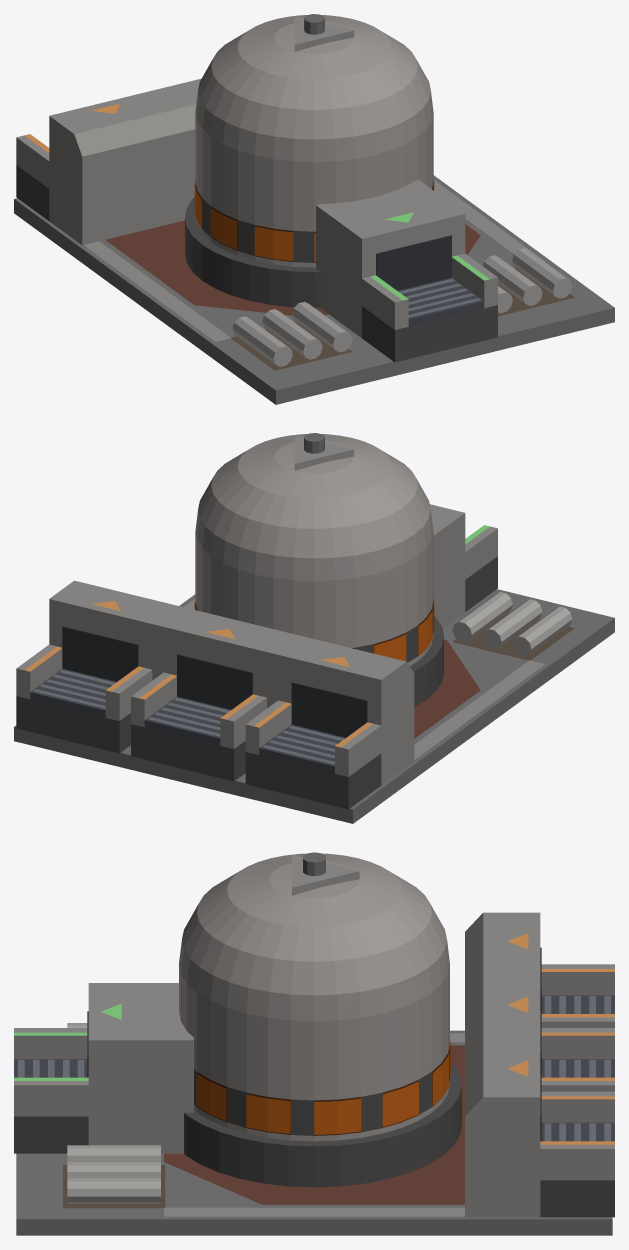
The model's file is vfef_smelter.obj.
3 views of the same model, one above another, from view 1: azimuth 30°, elevation 25°; view 2: azimuth 150°, elevation 25°; view 3: azimuth 270°, elevation 25° (orthographic). The views are drawn at different scales.
Parts seen in each view (by area): view 1: vfef_smelter_36, vfef_smelter_4, vfef_smelter_0, vfef_smelter_35, vfef_smelter_39, vfef_smelter_30, vfef_smelter_1, vfef_smelter_41, vfef_smelter_3, vfef_smelter_48, vfef_smelter_34, vfef_smelter_42 (+14 smaller); view 2: vfef_smelter_36, vfef_smelter_4, vfef_smelter_35, vfef_smelter_0, vfef_smelter_6, vfef_smelter_22, vfef_smelter_14, vfef_smelter_39, vfef_smelter_13, vfef_smelter_29, vfef_smelter_21, vfef_smelter_1 (+23 smaller); view 3: vfef_smelter_36, vfef_smelter_4, vfef_smelter_35, vfef_smelter_0, vfef_smelter_39, vfef_smelter_30, vfef_smelter_1, vfef_smelter_34, vfef_smelter_3, vfef_smelter_33, vfef_smelter_22, vfef_smelter_27 (+24 smaller).
Part boxes in pixels (x1=…): vfef_smelter_36: x1=195, y1=15, x2=433, y2=162; vfef_smelter_4: x1=49, y1=78, x2=201, y2=245; vfef_smelter_0: x1=14, y1=175, x2=614, y2=404; vfef_smelter_35: x1=195, y1=112, x2=433, y2=231; vfef_smelter_39: x1=316, y1=180, x2=465, y2=337; vfef_smelter_30: x1=185, y1=197, x2=320, y2=307; vfef_smelter_1: x1=105, y1=220, x2=480, y2=315; vfef_smelter_41: x1=362, y1=305, x2=497, y2=362; vfef_smelter_3: x1=83, y1=180, x2=545, y2=341; vfef_smelter_48: x1=376, y1=235, x2=451, y2=290; vfef_smelter_34: x1=194, y1=180, x2=434, y2=261; vfef_smelter_42: x1=398, y1=277, x2=484, y2=326; vfef_smelter_36: x1=195, y1=434, x2=433, y2=581; vfef_smelter_4: x1=49, y1=580, x2=414, y2=785; vfef_smelter_35: x1=195, y1=531, x2=433, y2=647; vfef_smelter_0: x1=14, y1=589, x2=614, y2=823; vfef_smelter_6: x1=245, y1=752, x2=381, y2=809; vfef_smelter_22: x1=16, y1=696, x2=130, y2=753; vfef_smelter_14: x1=131, y1=724, x2=245, y2=781; vfef_smelter_39: x1=430, y1=504, x2=465, y2=628; vfef_smelter_13: x1=291, y1=682, x2=367, y2=737; vfef_smelter_29: x1=62, y1=626, x2=138, y2=681; vfef_smelter_21: x1=177, y1=654, x2=252, y2=709; vfef_smelter_1: x1=414, y1=639, x2=480, y2=738; vfef_smelter_36: x1=179, y1=853, x2=449, y2=1021; vfef_smelter_4: x1=465, y1=912, x2=540, y2=1217; vfef_smelter_35: x1=179, y1=965, x2=449, y2=1100; vfef_smelter_0: x1=16, y1=1030, x2=612, y2=1235; vfef_smelter_39: x1=88, y1=983, x2=193, y2=1153; vfef_smelter_30: x1=184, y1=1061, x2=461, y2=1187; vfef_smelter_1: x1=164, y1=1045, x2=464, y2=1204; vfef_smelter_34: x1=196, y1=1041, x2=450, y2=1134; vfef_smelter_3: x1=164, y1=1033, x2=464, y2=1216; vfef_smelter_33: x1=194, y1=1044, x2=449, y2=1135; vfef_smelter_22: x1=540, y1=1180, x2=614, y2=1217; vfef_smelter_27: x1=540, y1=1144, x2=614, y2=1180.
Bounding box in the file's own units: 2.96 × 2.08 × 3.99.
